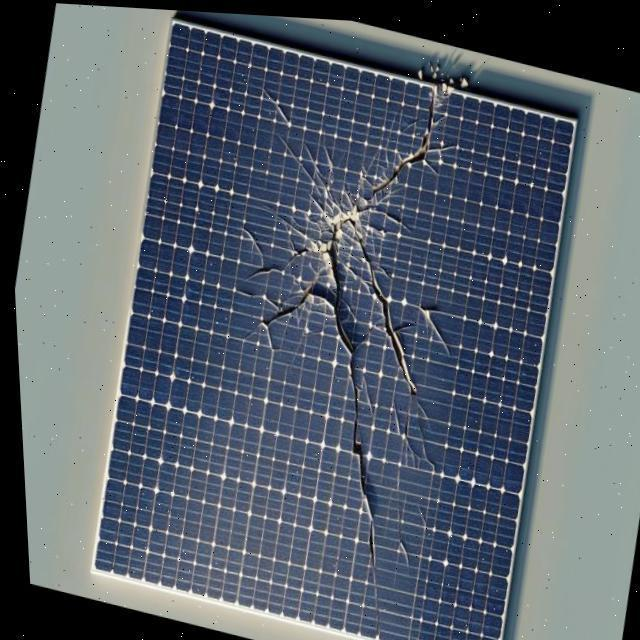Anomaly Solar Panel: (88, 18, 576, 640)
Structural Damage: (330, 174, 469, 468), (366, 85, 474, 222), (342, 352, 377, 632), (294, 247, 372, 355), (237, 285, 326, 363), (242, 241, 315, 288), (276, 132, 318, 184), (416, 299, 447, 352), (310, 207, 343, 255), (409, 402, 432, 469), (392, 462, 405, 573), (262, 84, 292, 123), (232, 284, 278, 308), (240, 224, 265, 266), (382, 105, 398, 165), (347, 321, 375, 353), (344, 194, 366, 225), (301, 139, 321, 173), (357, 368, 372, 413), (414, 397, 430, 426), (389, 397, 397, 432), (412, 502, 423, 524), (392, 319, 413, 330), (285, 236, 293, 249)
